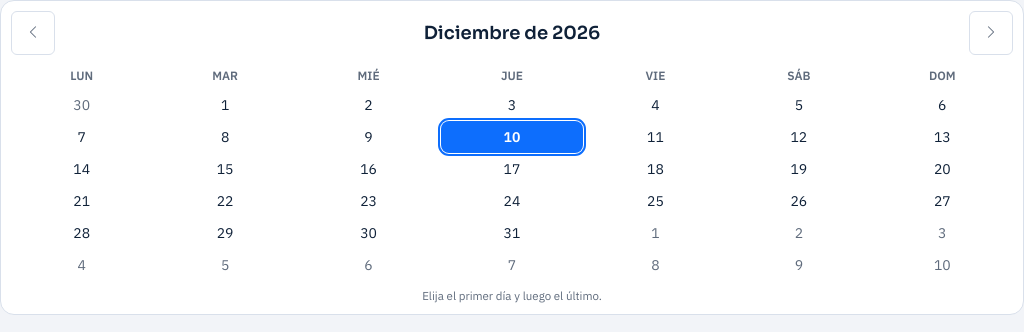
Test: Calendario de rango con el teclado › una sola parada de Tab y las flechas mueven el cursor
Press ArrowRight in the cell named "10 de diciembre de 2026", box [441,121,583,153]
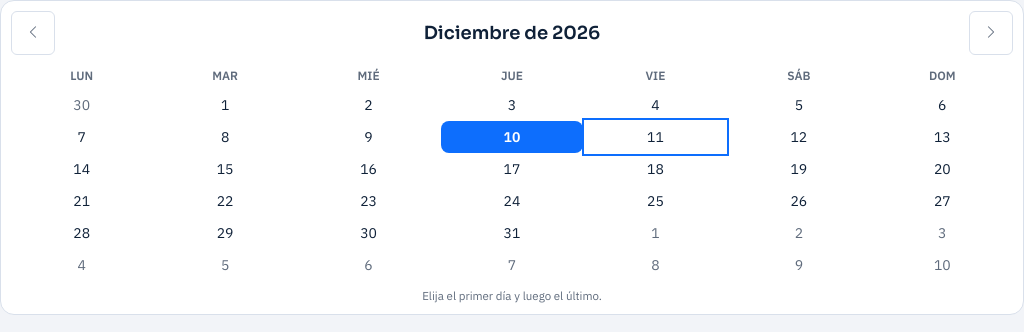
Press ArrowDown in the cell named "11 de diciembre de 2026", box [585,121,726,153]
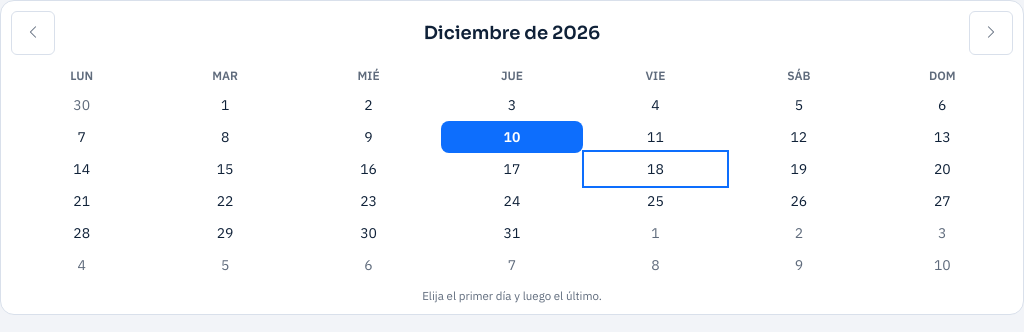
Click the cell named "18 de diciembre de 2026" at point(655, 169), box [585,153,726,185]
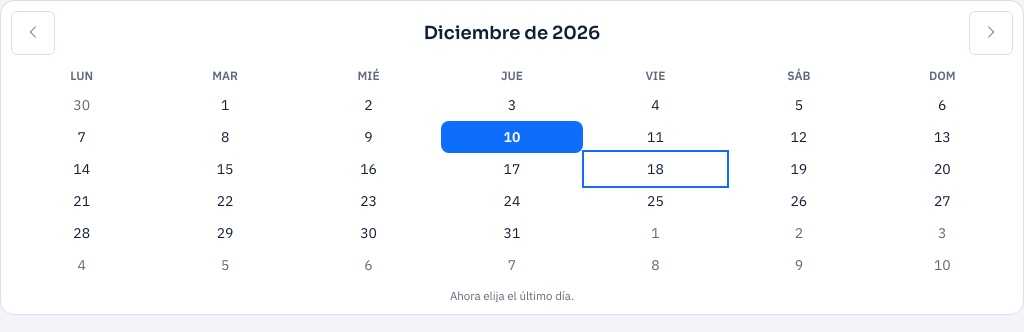
AvPág cambia de mes.
Press PageDown in the cell named "18 de diciembre de 2026", box [585,153,726,185]
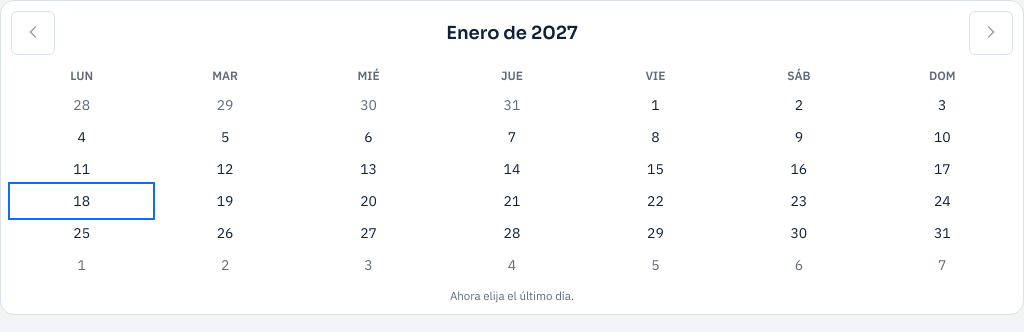
Now the text "Enero de 2027" is shown, box [446,22,578,44]
